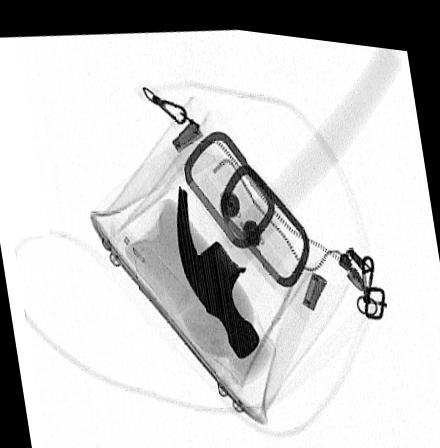Hammer: (175, 37, 405, 352)
